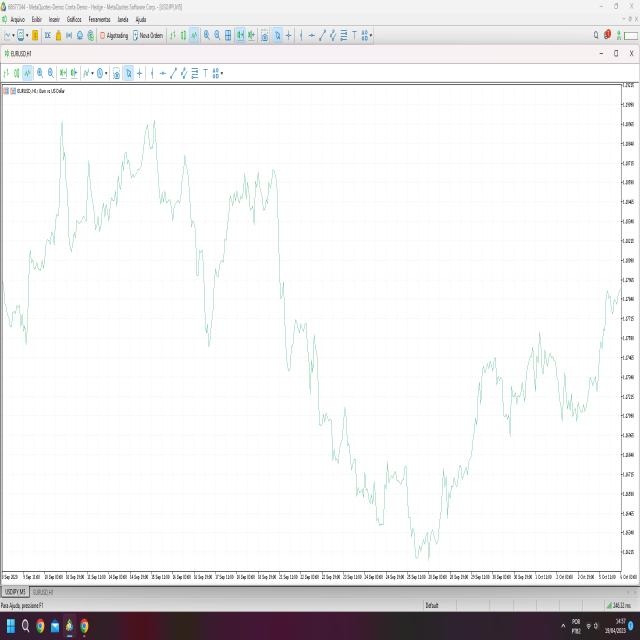bandeira_alta: (207, 160, 254, 353), (24, 224, 52, 371)
